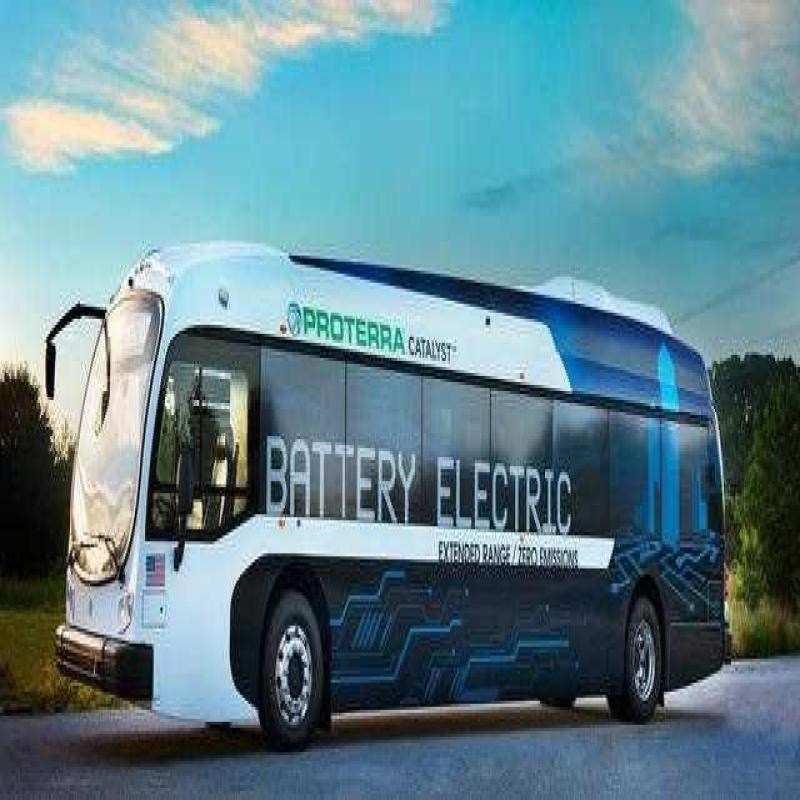bus: (48, 175, 754, 784)
